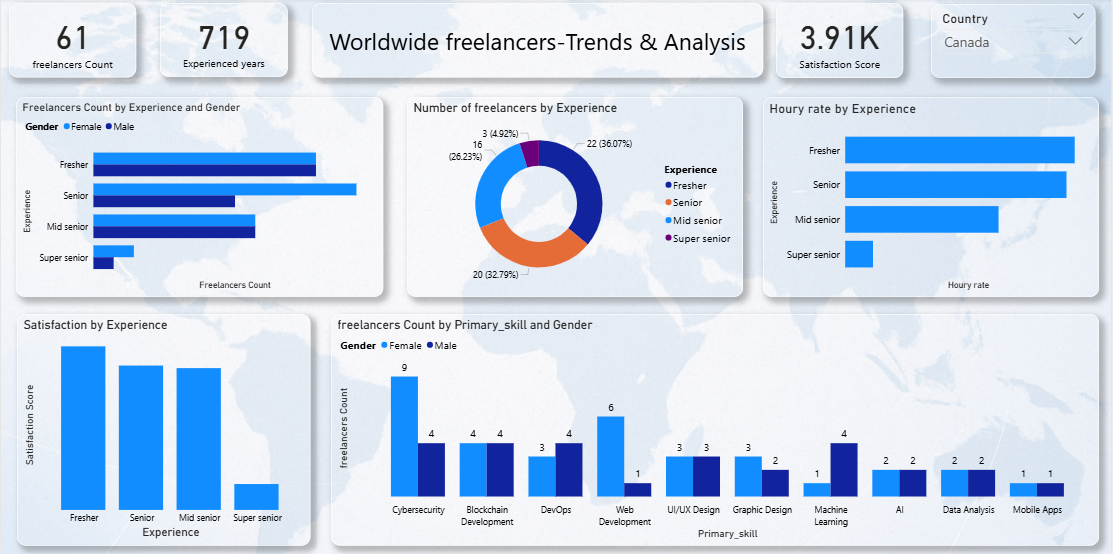

What the dashboard file says about the page in this screenshot:
{"tool":"powerbi","page":{"name":"Page 1","canvas":[1850,930],"ordinal":0},"visuals":[{"type":"donutChart","title":"Number of freelancers by Experience","fields":{"Category":["Table 1 (global_freelancers_raw).Experience(years) (groups)"],"Y":["CountNonNull(Table 1 (global_freelancers_raw).freelancer_ID)"]},"box":[676.4,165.7,559.7,333.1],"z":0},{"type":"columnChart","title":"Satisfaction by Experience","fields":{"Category":["Table 1 (global_freelancers_raw).Experience(years) (groups)"],"Y":["Sum(Table 1 (global_freelancers_raw).Satisfaction)"]},"box":[27.1,525.9,488.7,385.5],"z":1000},{"type":"clusteredColumnChart","fields":{"Category":["Table 1 (global_freelancers_raw).Primary_skill"],"Series":["Table 1 (global_freelancers_raw). Gender"],"Y":["CountNonNull(Table 1 (global_freelancers_raw).freelancer_ID)"]},"box":[549.5,525.9,1280,385.5],"z":2000},{"type":"barChart","fields":{"Category":["Table 1 (global_freelancers_raw).Experience(years) (groups)"],"Y":["Sum(Table 1 (global_freelancers_raw).Houry rate)"]},"box":[1269.9,165.7,559.7,333.1],"z":3000},{"type":"clusteredBarChart","title":"Freelancers Count by Experience and Gender","fields":{"Category":["Table 1 (global_freelancers_raw).Experience(years) (groups)"],"Y":["CountNonNull(Table 1 (global_freelancers_raw).freelancer_ID)"],"Series":["Table 1 (global_freelancers_raw). Gender"]},"box":[25.4,165.7,612.1,333.1],"z":4000},{"type":"card","fields":{"Values":["CountNonNull(Table 1 (global_freelancers_raw).freelancer_ID)"]},"box":[26.7,8.9,159.9,122.6],"z":5000},{"type":"card","fields":{"Values":["Sum(Table 1 (global_freelancers_raw).Experience(years))"]},"box":[207.9,10.7,284.3,122.6],"z":6000},{"type":"slicer","fields":{"Values":["Table 1 (global_freelancers_raw).Country"]},"box":[1550,10,273.3,123.3],"z":7000},{"type":"card","fields":{"Values":["Sum(Table 1 (global_freelancers_raw).Satisfaction)"]},"box":[1292.3,8.3,212.3,124.9],"z":8000},{"type":"shape","box":[518.9,8.9,751.7,124.4],"z":9000}]}

Visuals, with their boxes in screenshot pixels (x1, y1, x2, y2), scaled from the page's 1850x930 canvas onto the 1113x554 screenshot:
"Number of freelancers by Experience" donutChart: <bbox>407, 99, 744, 297</bbox>
"Satisfaction by Experience" columnChart: <bbox>16, 313, 310, 543</bbox>
clusteredColumnChart - Table 1 (global_freelancers_raw).Primary_skill x Table 1 (global_freelancers_raw). Gender: <bbox>331, 313, 1101, 543</bbox>
barChart - Table 1 (global_freelancers_raw).Experience(years) (groups) x Sum(Table 1 (global_freelancers_raw).Houry rate): <bbox>764, 99, 1101, 297</bbox>
"Freelancers Count by Experience and Gender" clusteredBarChart: <bbox>15, 99, 384, 297</bbox>
card - CountNonNull(Table 1 (global_freelancers_raw).freelancer_ID): <bbox>16, 5, 112, 78</bbox>
card - Sum(Table 1 (global_freelancers_raw).Experience(years)): <bbox>125, 6, 296, 79</bbox>
slicer - Table 1 (global_freelancers_raw).Country: <bbox>933, 6, 1097, 79</bbox>
card - Sum(Table 1 (global_freelancers_raw).Satisfaction): <bbox>777, 5, 905, 79</bbox>
shape: <bbox>312, 5, 764, 79</bbox>
